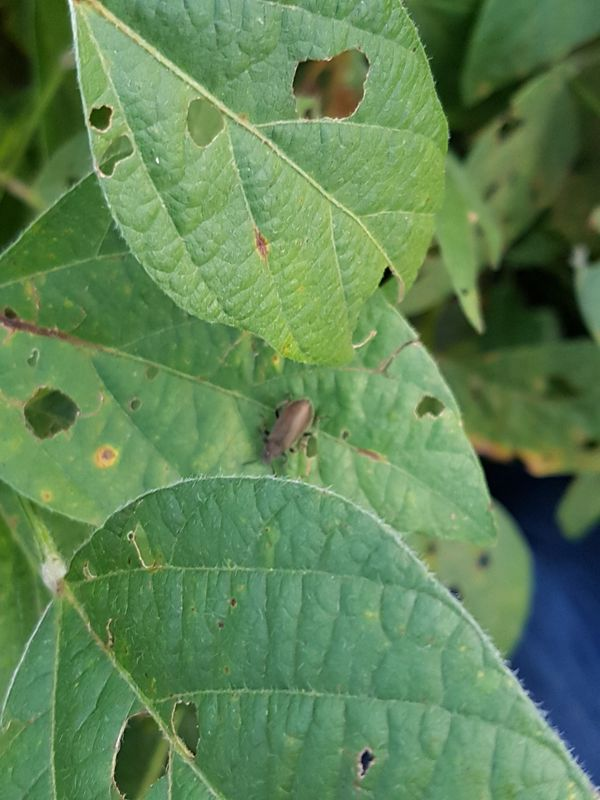Lagria_villosa: (237, 385, 335, 480)
